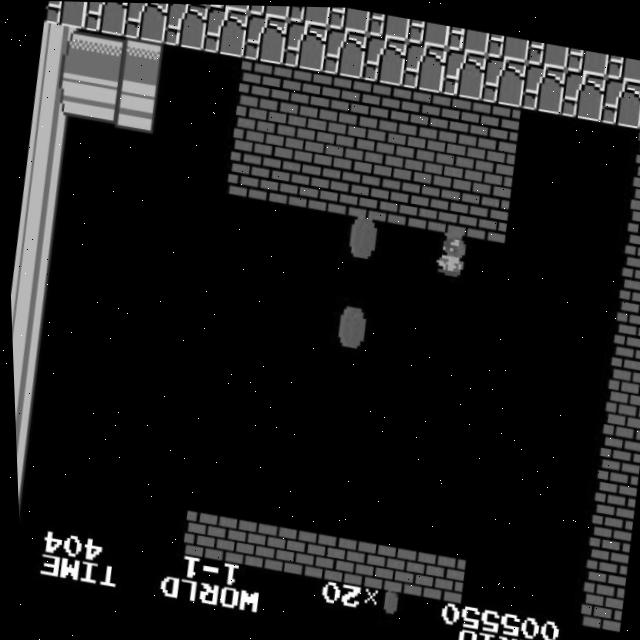1- brick_block: (414, 548, 464, 601), (427, 136, 477, 189), (393, 84, 443, 137), (295, 528, 345, 581), (308, 115, 358, 168), (274, 64, 324, 117), (176, 507, 226, 560), (421, 182, 471, 234), (381, 175, 431, 227), (302, 161, 352, 213), (573, 577, 622, 630), (591, 442, 640, 495), (467, 143, 516, 196), (473, 98, 522, 151), (375, 542, 424, 595), (388, 129, 437, 182), (256, 521, 305, 574), (314, 70, 363, 123), (216, 514, 265, 567), (229, 101, 278, 154), (262, 155, 312, 206), (579, 532, 628, 584), (585, 487, 634, 539), (461, 189, 510, 241), (433, 92, 482, 144), (335, 535, 384, 587), (342, 168, 391, 220), (348, 123, 397, 175), (354, 78, 403, 130), (269, 109, 318, 161), (223, 147, 272, 199), (235, 57, 284, 109), (597, 397, 640, 450), (602, 352, 640, 404), (609, 306, 640, 359), (614, 262, 640, 314), (620, 217, 640, 268), (626, 172, 640, 223), (631, 126, 640, 178)
11- little_mario: (425, 226, 477, 281)
14- pipe: (70, 74, 120, 127), (19, 158, 69, 211), (7, 248, 57, 300), (30, 68, 80, 120), (76, 29, 125, 82), (13, 203, 62, 255), (25, 113, 74, 165), (37, 23, 86, 75), (8, 292, 51, 345), (10, 338, 45, 391), (11, 383, 39, 434), (12, 429, 33, 480), (14, 473, 27, 525)
15- pipe_head: (115, 36, 165, 89), (110, 81, 159, 134)
17- undestructible_block: (478, 53, 528, 106), (359, 32, 409, 85), (240, 11, 290, 64), (558, 67, 607, 120), (518, 60, 567, 113), (439, 46, 488, 99), (399, 39, 448, 92), (280, 18, 329, 71), (201, 4, 250, 57), (320, 26, 369, 78), (161, 3, 210, 50), (597, 73, 640, 126), (121, 2, 170, 43), (82, 1, 131, 36), (43, 1, 92, 30), (525, 38, 570, 68), (485, 31, 530, 61), (445, 24, 490, 54), (406, 17, 451, 47), (366, 10, 411, 40), (565, 45, 609, 75), (326, 6, 371, 32), (604, 52, 640, 81), (287, 5, 332, 26), (247, 4, 291, 19), (208, 4, 252, 12)
2- coin: (336, 213, 386, 266), (325, 303, 374, 355)
